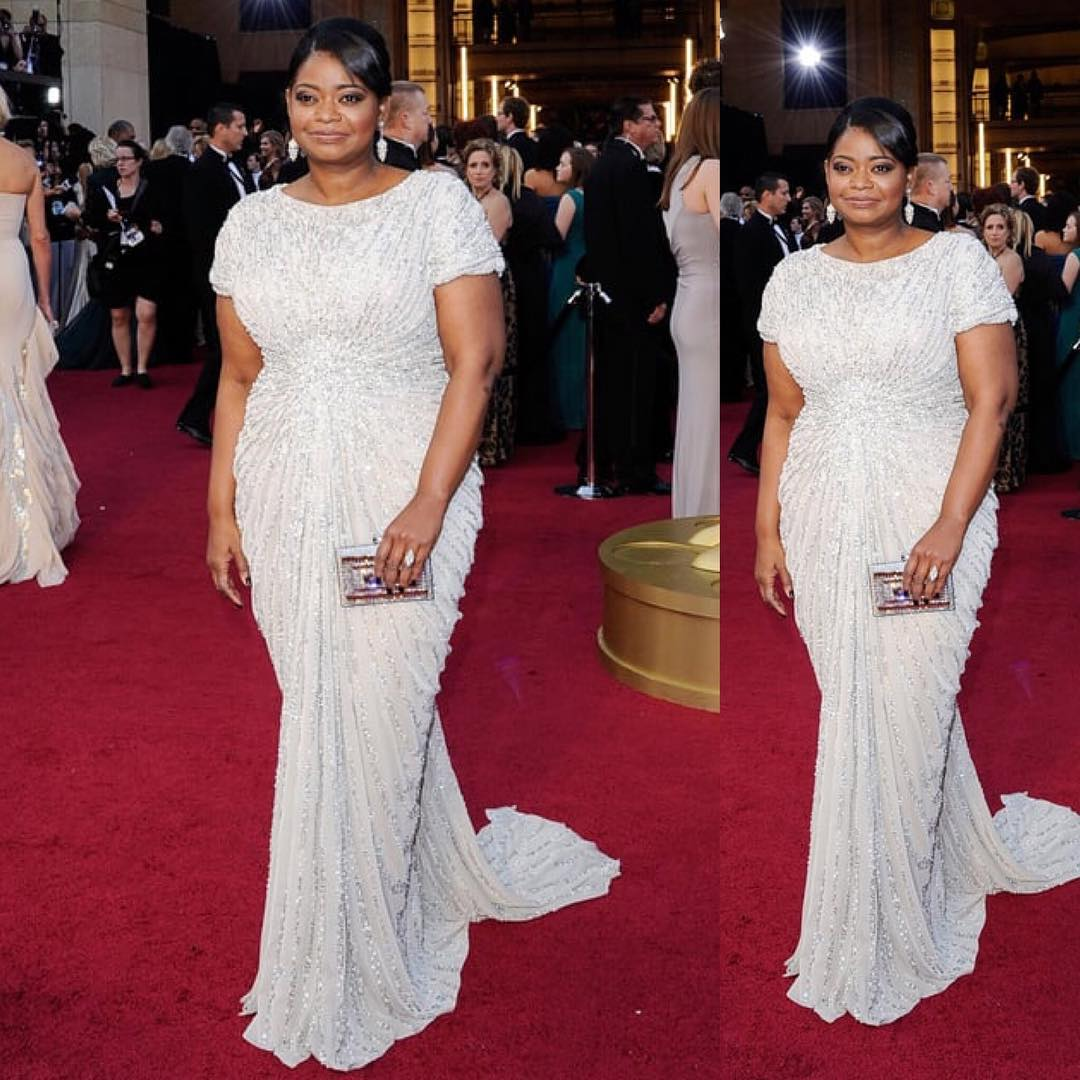hand: (379, 511, 429, 589)
